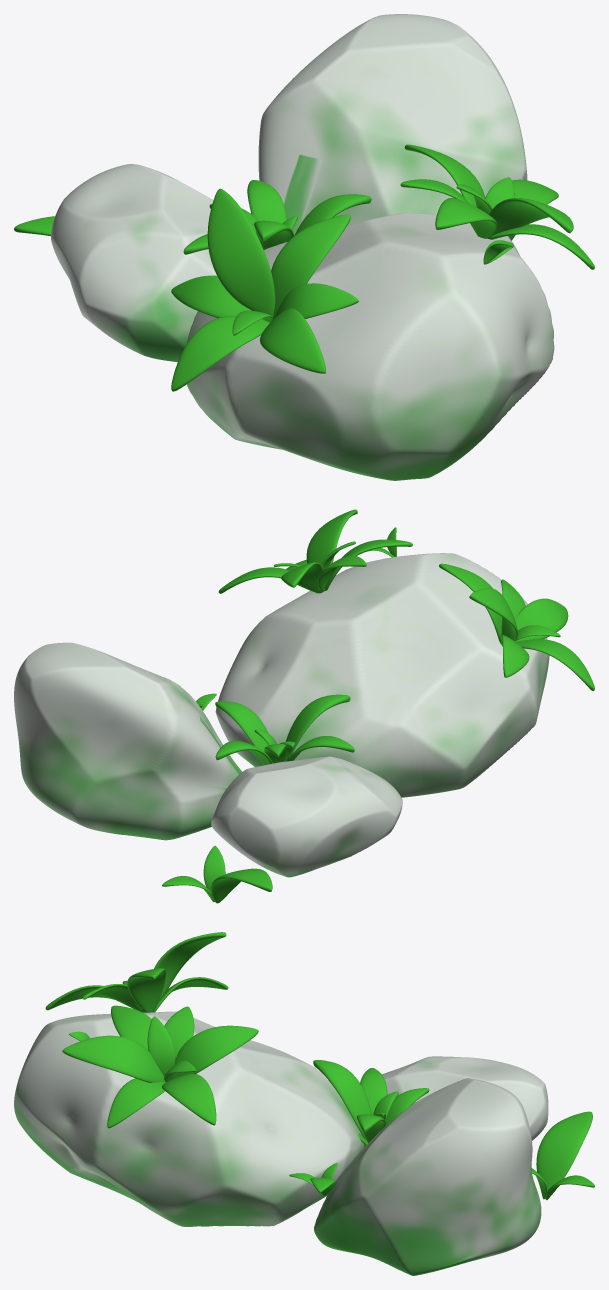
Rendered from rockandplants.glb.
The picture shows the model from 3 angles, top to bottom: view 1: azimuth 30°, elevation 25°; view 2: azimuth 150°, elevation 25°; view 3: azimuth 270°, elevation 25°; orthographic projection. The views are drawn at different scales.
Visible parts, largest first — view 1: Cube_Material_002_0.001, Cube; view 2: Cube_Material_002_0.001, Cube; view 3: Cube, Cube_Material_002_0.001.
Boxes of the visible parts, x1,y1,x2,y2 form: Cube_Material_002_0.001: (51, 45, 554, 480); Cube: (14, 14, 594, 391); Cube_Material_002_0.001: (69, 553, 549, 877); Cube: (14, 509, 594, 903); Cube: (45, 932, 594, 1275); Cube_Material_002_0.001: (14, 1011, 548, 1226).
Size of the model in its own units: 0.9423 by 0.4721 by 1.13.
1 material, 1 textured.
